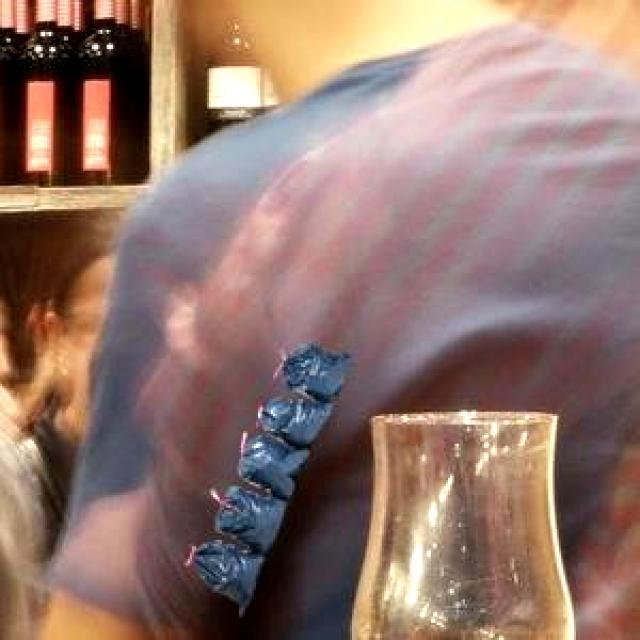Garbage_Bag: (191, 340, 347, 611)
